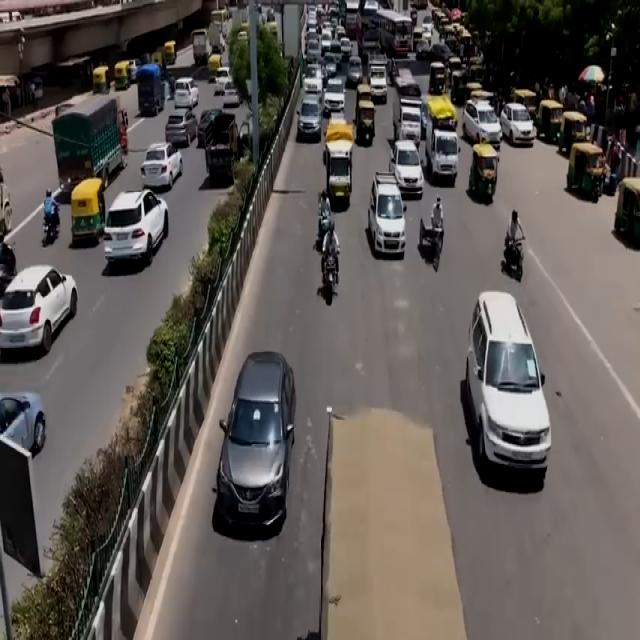BUS: (376, 8, 414, 58), (137, 65, 165, 117)
MOTORCYCLE: (321, 253, 338, 309), (511, 237, 526, 283)
SUV: (471, 294, 546, 476)
TRUCK: (53, 95, 124, 197), (421, 102, 458, 188)
